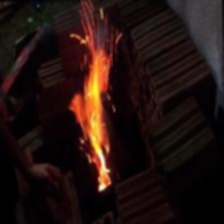fire: (59, 2, 136, 202)
